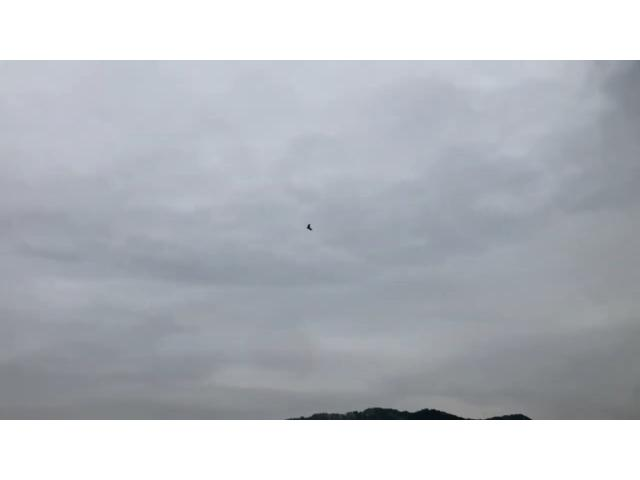Anti-Drone: (301, 218, 319, 234)
